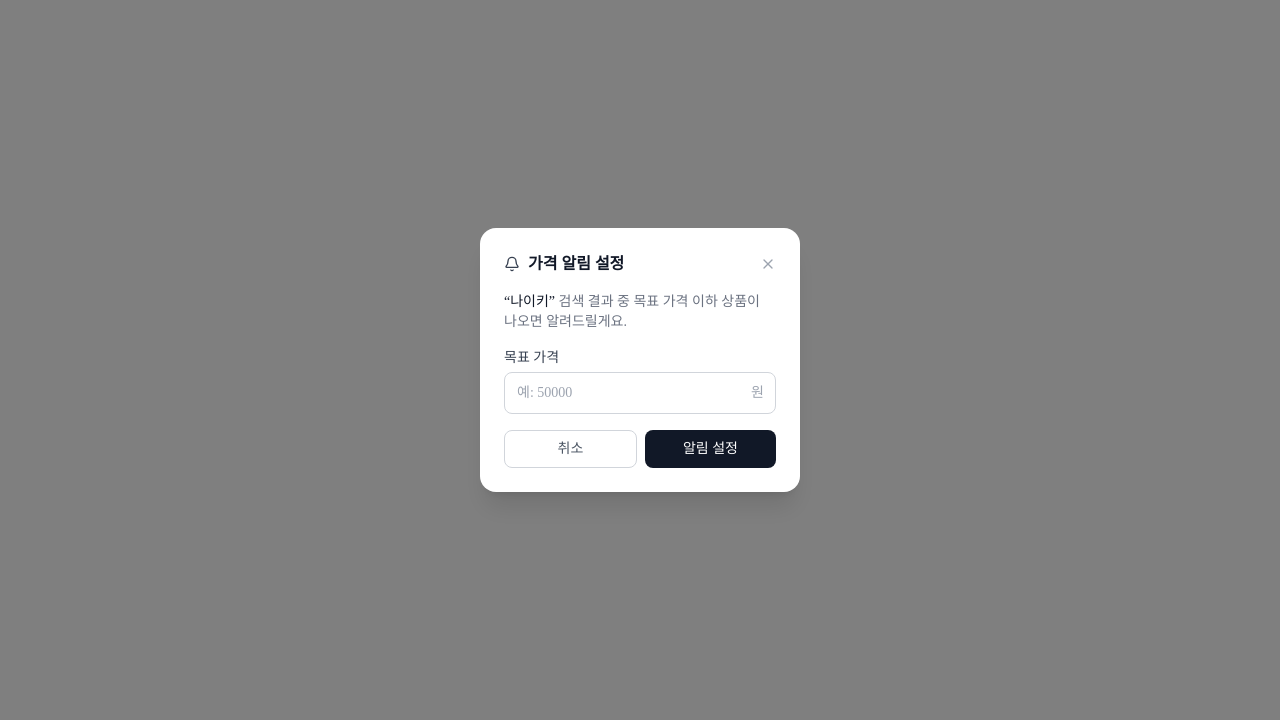
Test: AlertModal › 로딩 중 버튼 disabled
Type "30000" into the number field labelled "목표 가격".
click(640, 393); type("30000")  # box [504,372,776,414]
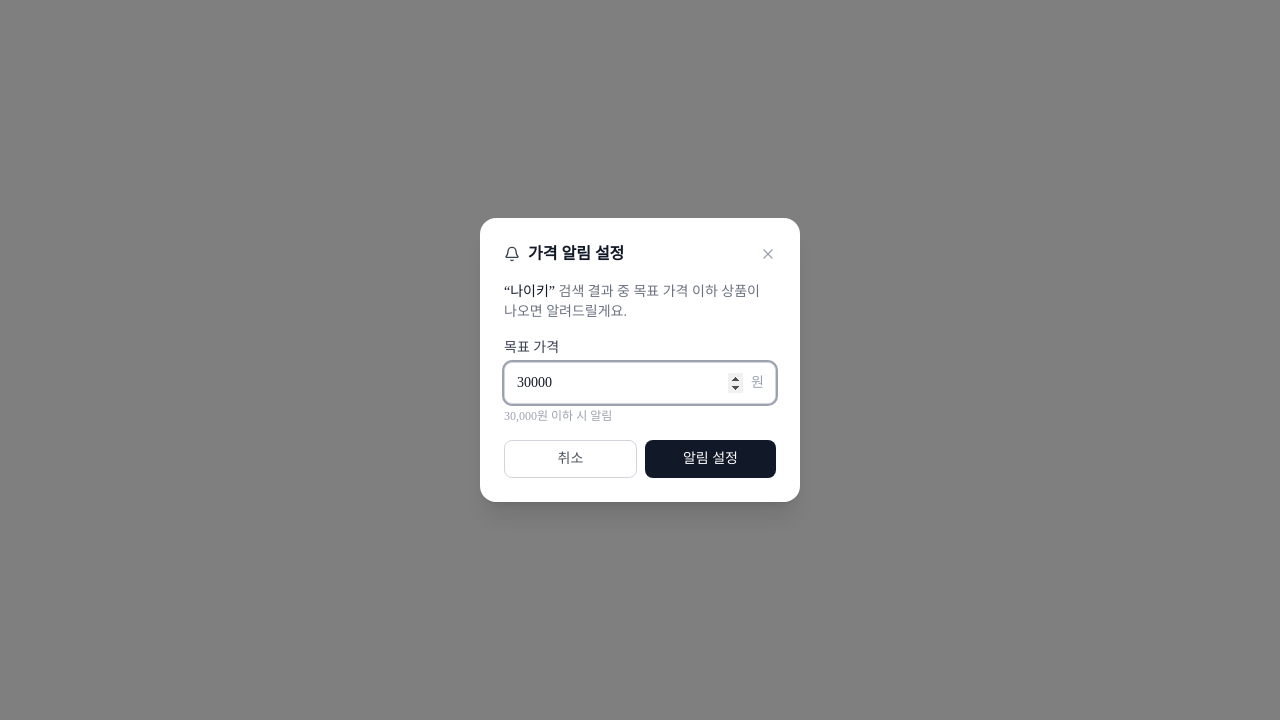
Click the button "알림 설정".
click(710, 459)  # box [645,440,776,478]
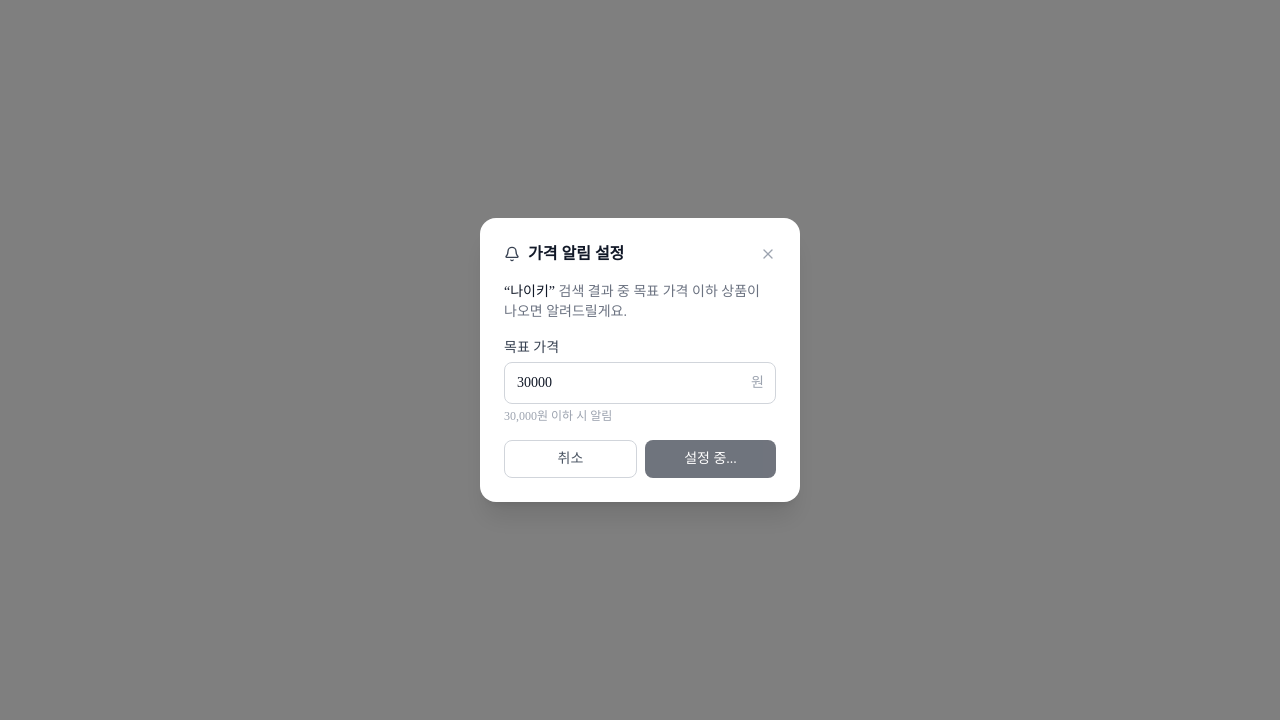
Check: the button "설정 중..." is disabled, box [645,440,776,478]
